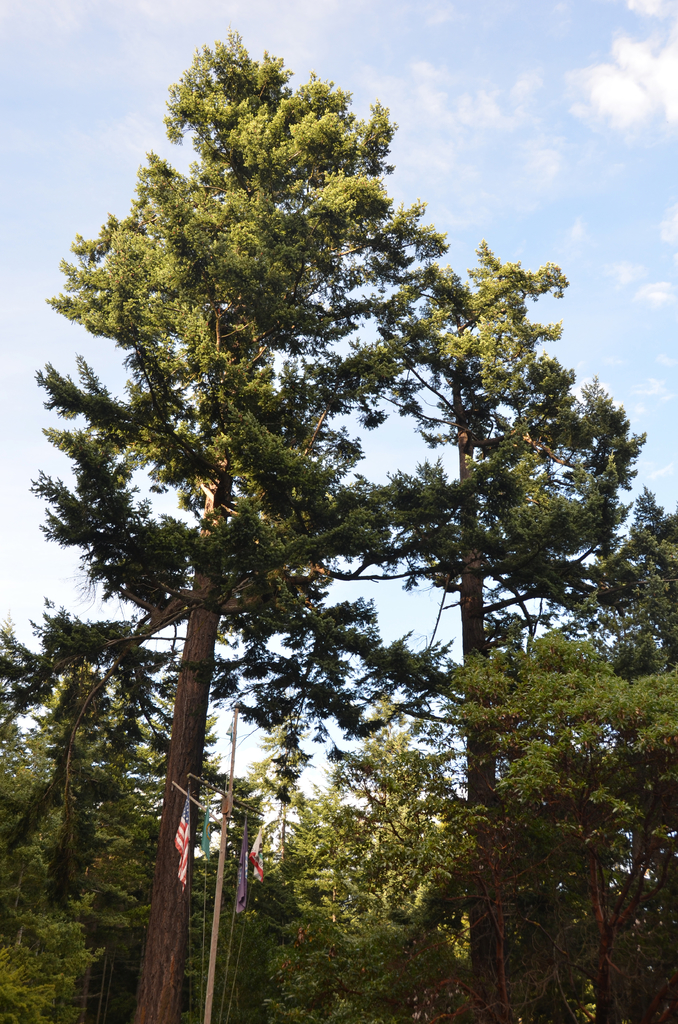Tree: (0, 27, 677, 1023)
